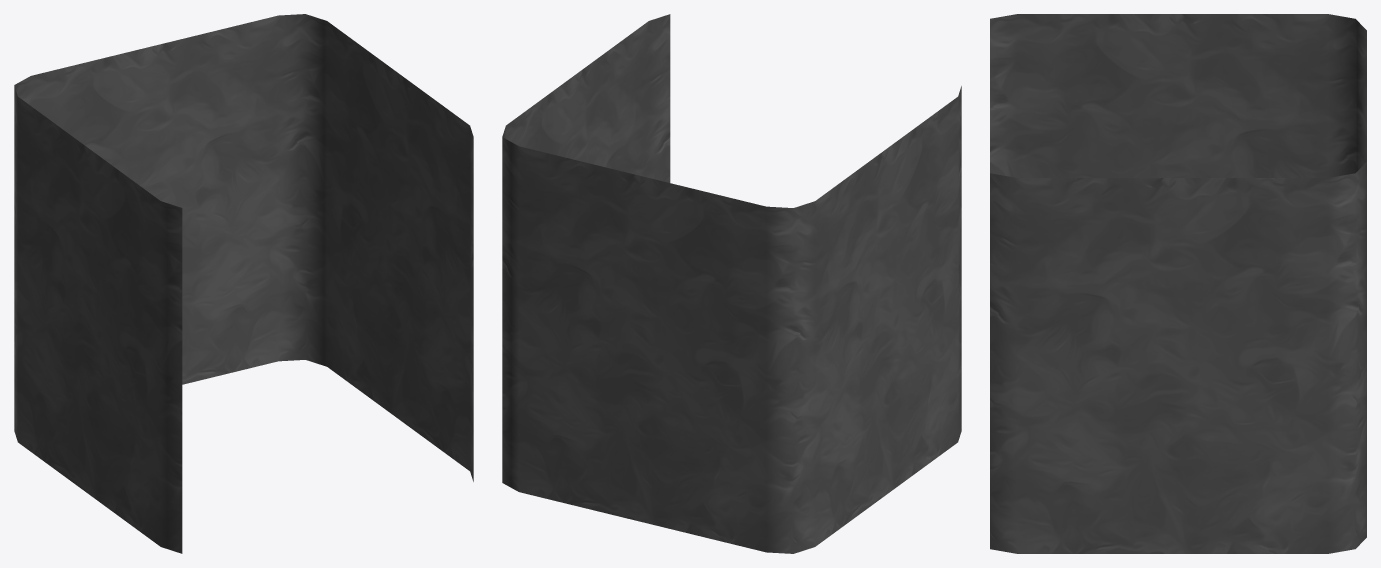
File: GrassWall.fbx
The picture shows the model from 3 angles, left to right: view 1: azimuth 30°, elevation 25°; view 2: azimuth 150°, elevation 25°; view 3: azimuth 270°, elevation 25°; orthographic projection. The views are drawn at different scales.
Visible parts, largest first — view 1: GrassWallModule; view 2: GrassWallModule; view 3: GrassWallModule.
Part boxes in pixels (box(x1,y1,x2,y2)): GrassWallModule: box(14, 14, 473, 553); GrassWallModule: box(502, 14, 961, 553); GrassWallModule: box(990, 14, 1366, 553).
Size of the model in its own units: 93.6 by 100 by 90.86.
